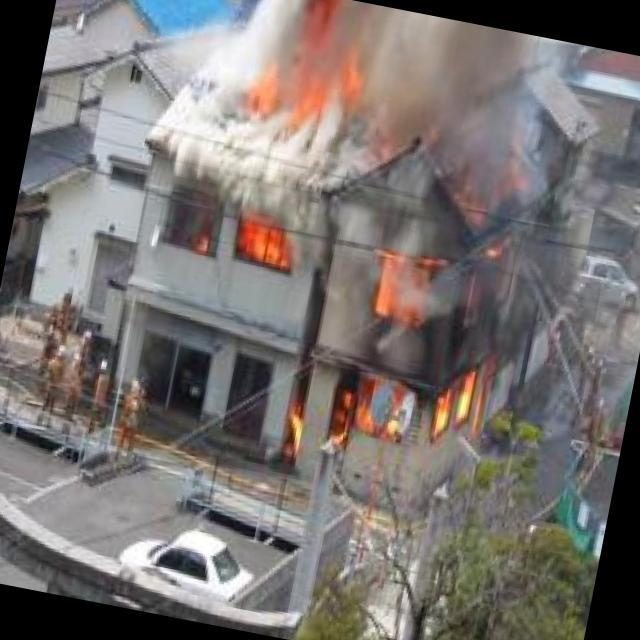Fire: (280, 181, 541, 500), (239, 1, 376, 133), (191, 203, 293, 276)
